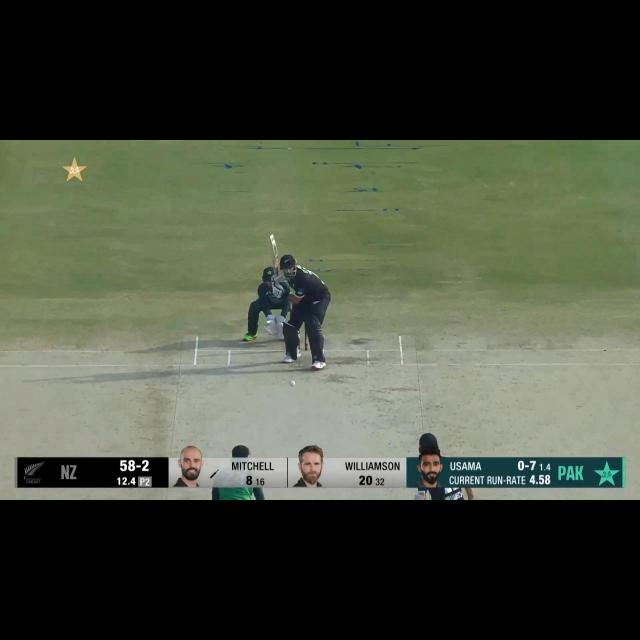bat: (266, 231, 280, 276)
toe: (267, 231, 276, 241)
